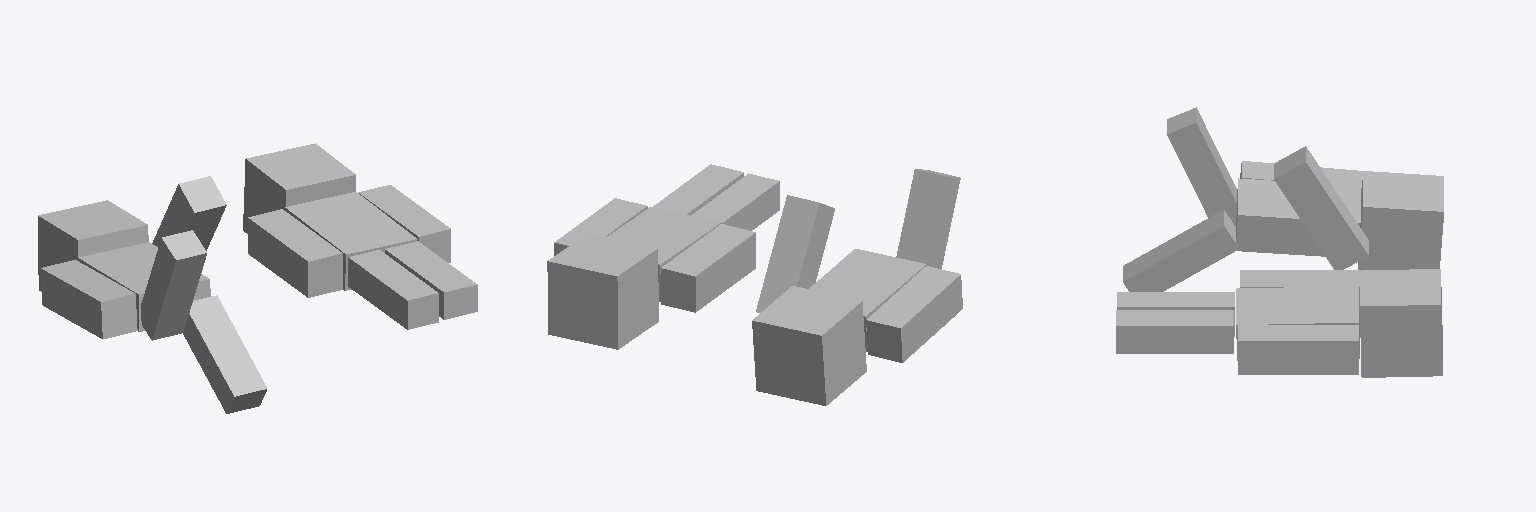
File: steve_000020.obj
3 views of the same model, side by side, from view 1: azimuth 30°, elevation 25°; view 2: azimuth 150°, elevation 25°; view 3: azimuth 270°, elevation 25° (orthographic).
Visible parts, largest first — view 1: Cube.001_Cube.002, Cube_Cube.001; view 2: Cube_Cube.001, Cube.001_Cube.002; view 3: Cube.001_Cube.002, Cube_Cube.001.
Boxes of the visible parts, x1,y1,x2,y2 form: Cube.001_Cube.002: [243, 143, 477, 329]; Cube_Cube.001: [38, 176, 267, 413]; Cube_Cube.001: [752, 169, 962, 405]; Cube.001_Cube.002: [547, 164, 779, 349]; Cube.001_Cube.002: [1116, 269, 1442, 377]; Cube_Cube.001: [1123, 107, 1443, 291].
Bounding box in the file's own units: 6.55 × 2.96 × 5.36.